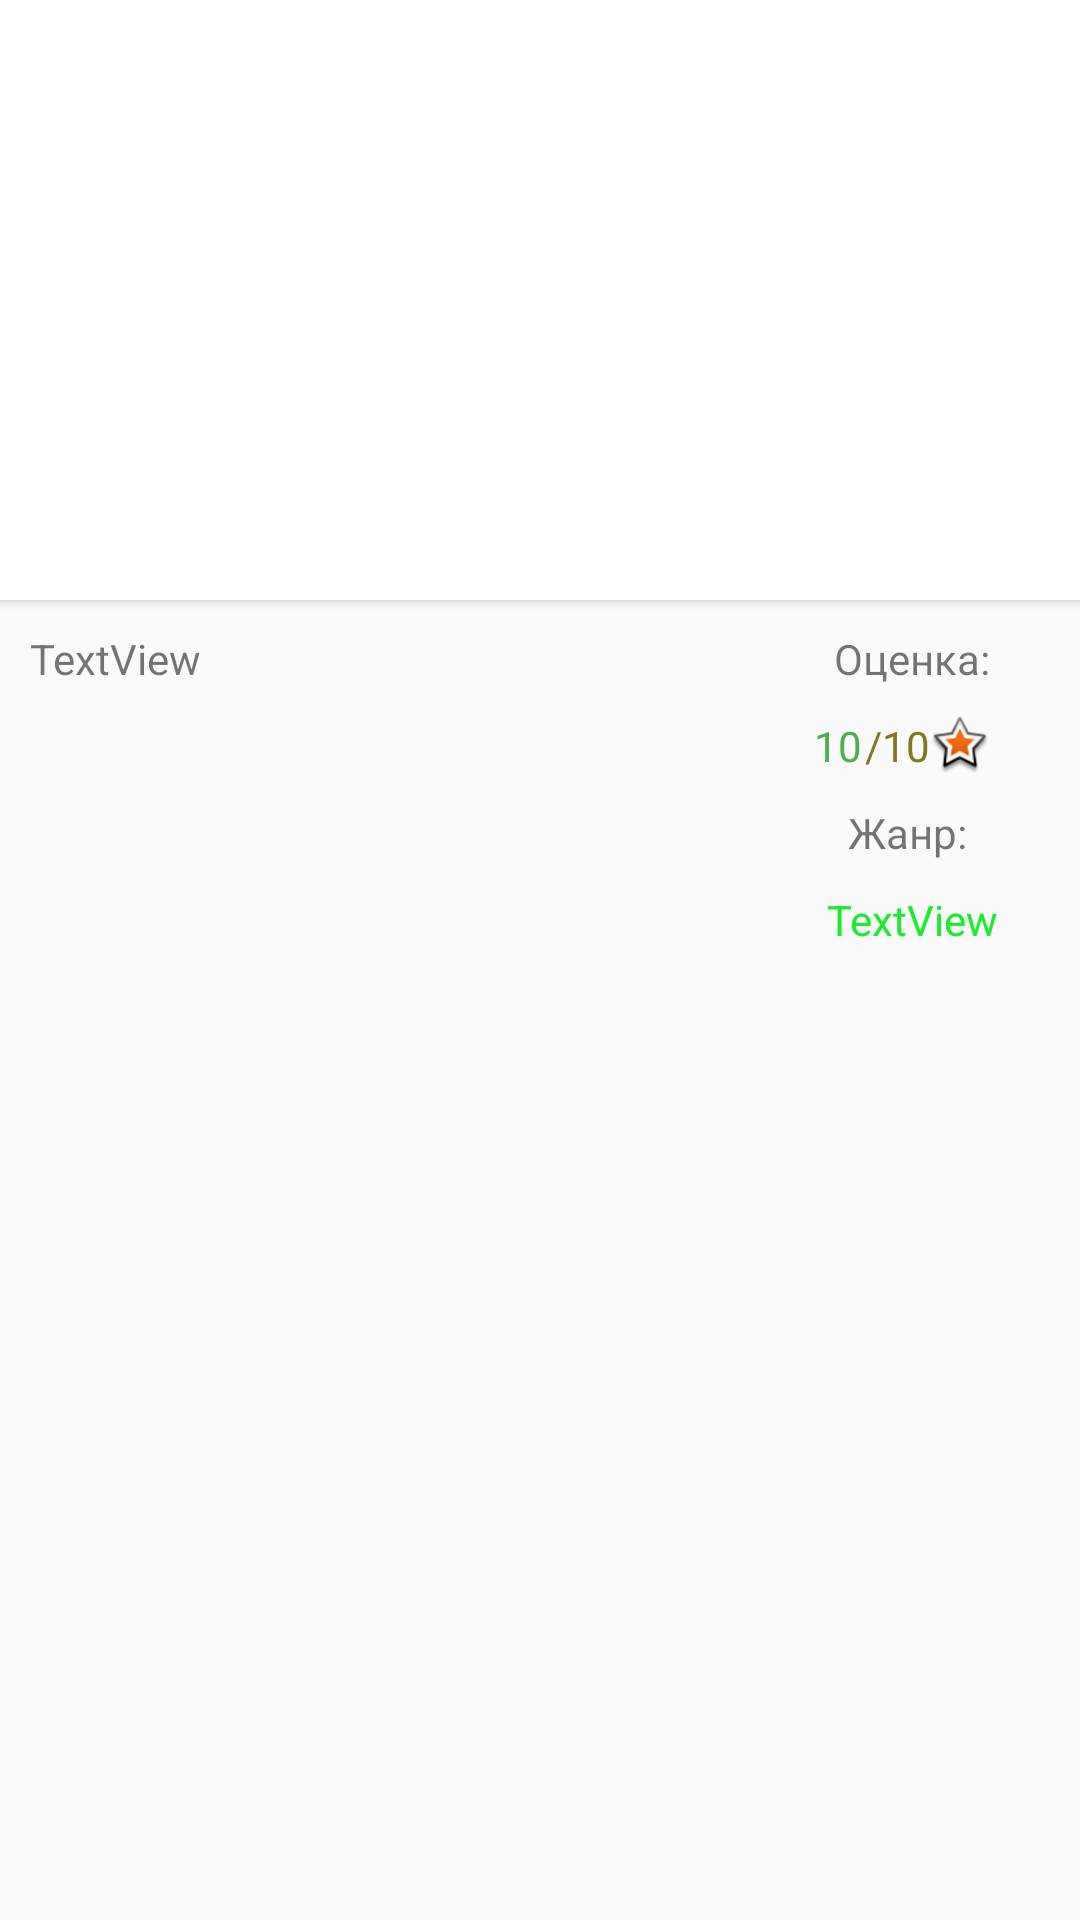

Point at icon controls on the screen. Image size 1080px x 1920px, points as (x,y).
star on: (960,744)
